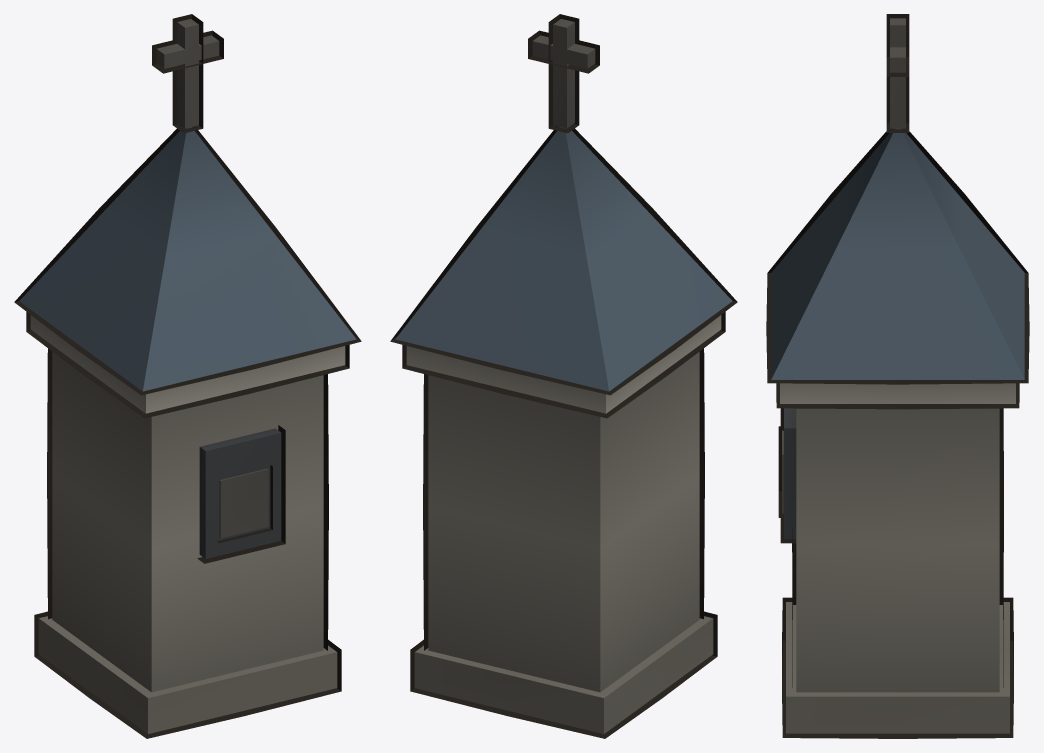
Rendered from toit_clocheton.glb.
The picture shows the model from 3 angles, left to right: view 1: azimuth 30°, elevation 25°; view 2: azimuth 150°, elevation 25°; view 3: azimuth 270°, elevation 25°; orthographic projection. The views are drawn at different scales.
Parts seen in each view (by area): view 1: toit_clocheton, toit_clocheton_outline; view 2: toit_clocheton, toit_clocheton_outline; view 3: toit_clocheton, toit_clocheton_outline.
Boxes of the visible parts, x1,y1,x2,y2 form: toit_clocheton: (19,19,356,733); toit_clocheton_outline: (14,14,361,738); toit_clocheton: (395,19,732,733); toit_clocheton_outline: (390,14,737,738); toit_clocheton: (771,18,1024,733); toit_clocheton_outline: (766,14,1029,738).
Size of the model in its own units: 0.6464 by 1.82 by 0.6464.
